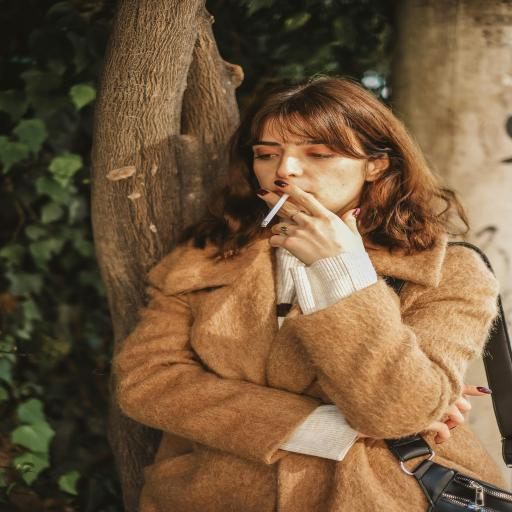terdeteksi merokok: (241, 126, 348, 242)
